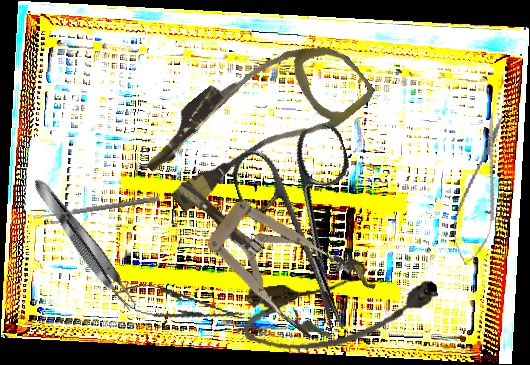Cannula: (132, 6, 379, 236), (240, 268, 442, 357)
Iris Scissors: (225, 120, 396, 348)
Micro Scissor: (445, 110, 517, 269)
Needle Holder: (111, 278, 247, 333)
Speculum: (153, 147, 382, 352)
Surgical Spoon: (32, 195, 160, 221)
Tissue Forceps: (27, 172, 143, 316)
